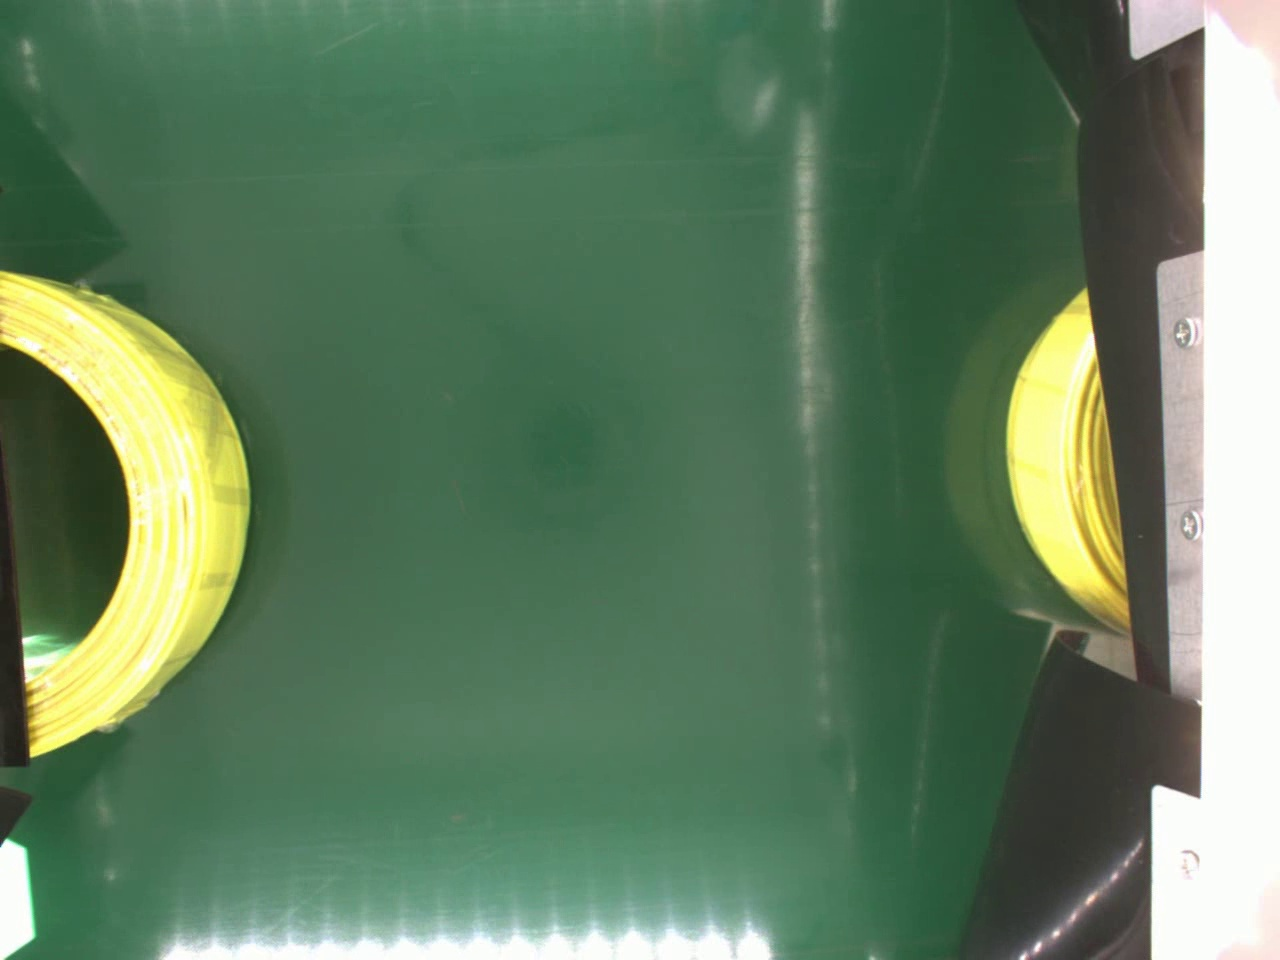yellow: (0, 265, 256, 760), (1001, 279, 1128, 636)
